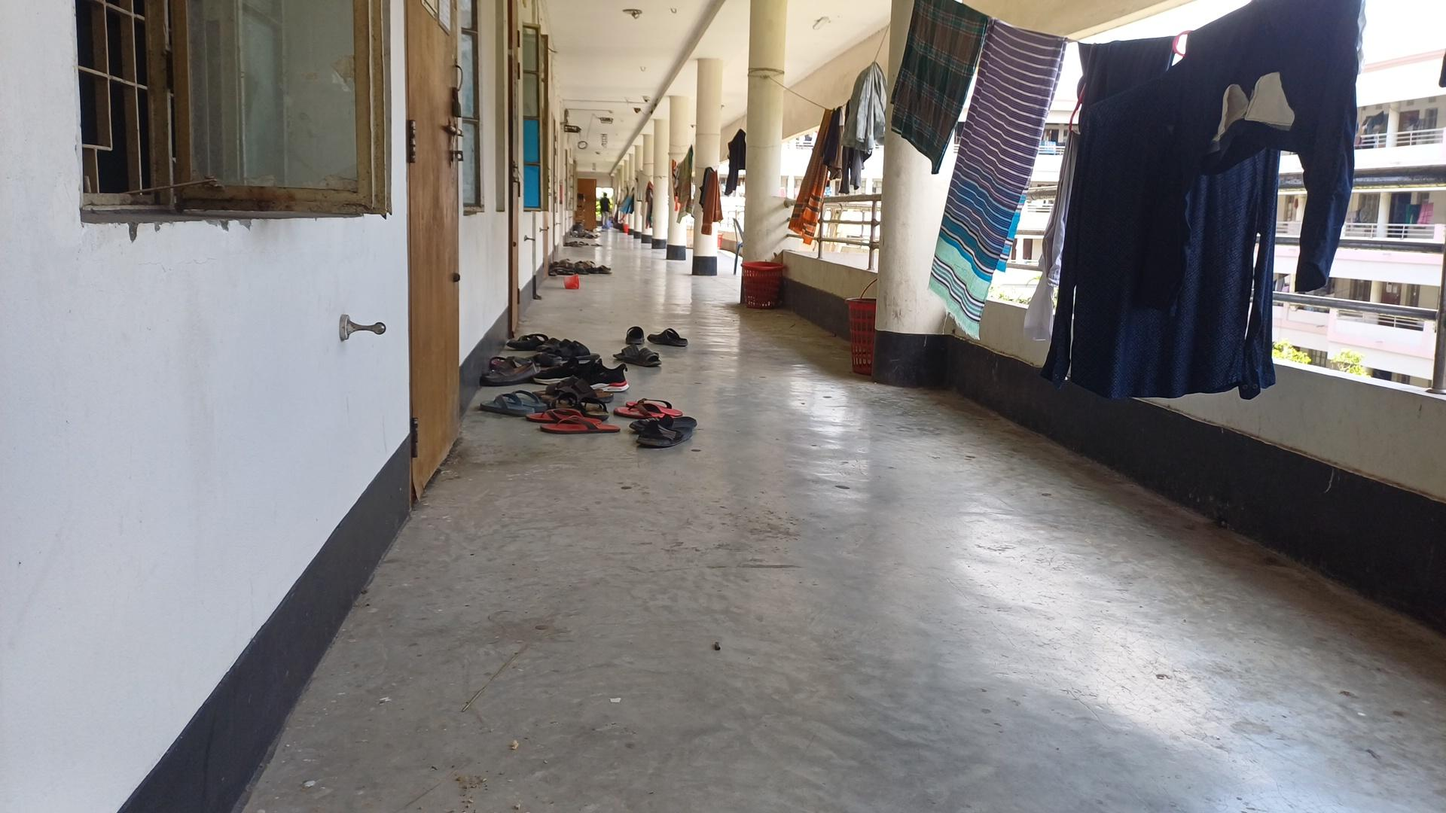Basket: (831, 289, 885, 365), (733, 252, 789, 314)
Door: (399, 3, 496, 465), (568, 168, 600, 236)
Footwear: (542, 356, 642, 394), (532, 399, 600, 440), (631, 412, 697, 453), (629, 317, 694, 348)
Towel: (918, 27, 1056, 338)
